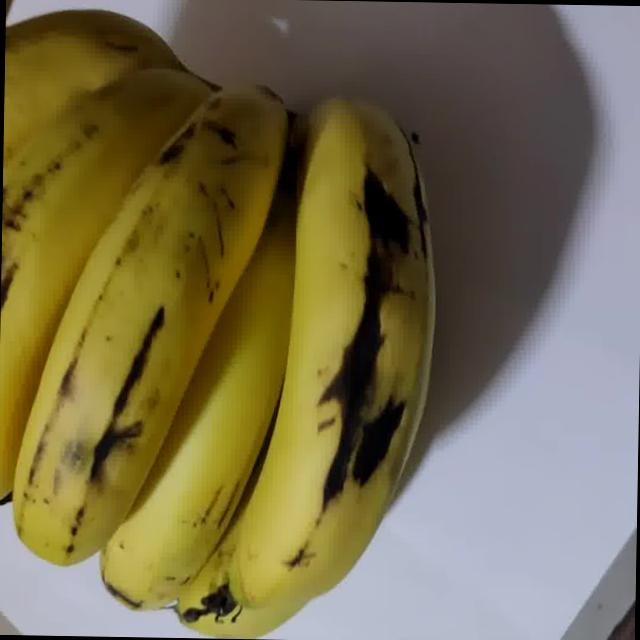banana_pacche: (0, 7, 528, 640)
